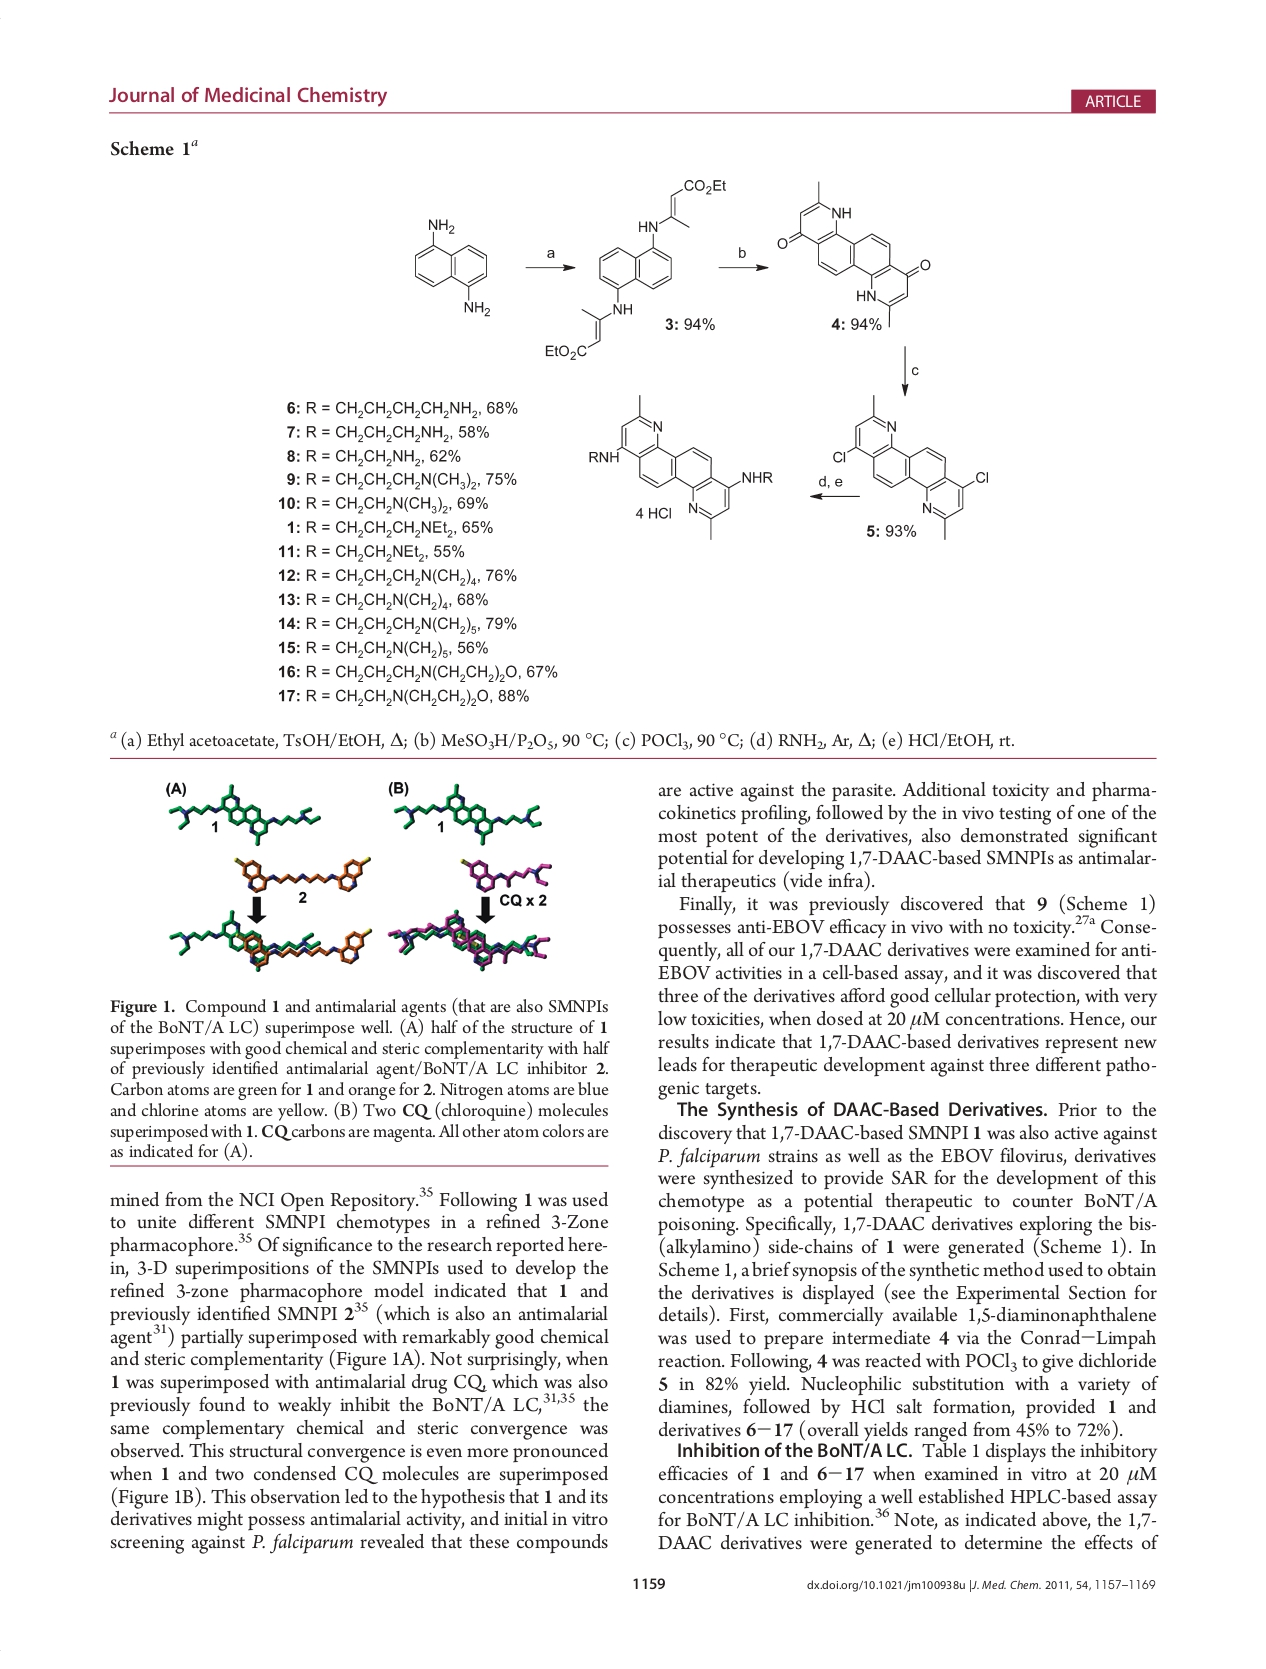exist_molecular: (543, 176, 729, 360), (586, 394, 777, 540), (774, 177, 935, 330), (831, 392, 991, 545), (410, 213, 501, 318)
